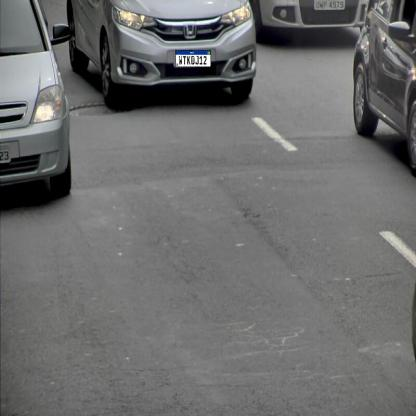PlacaM: (175, 50, 211, 67)
